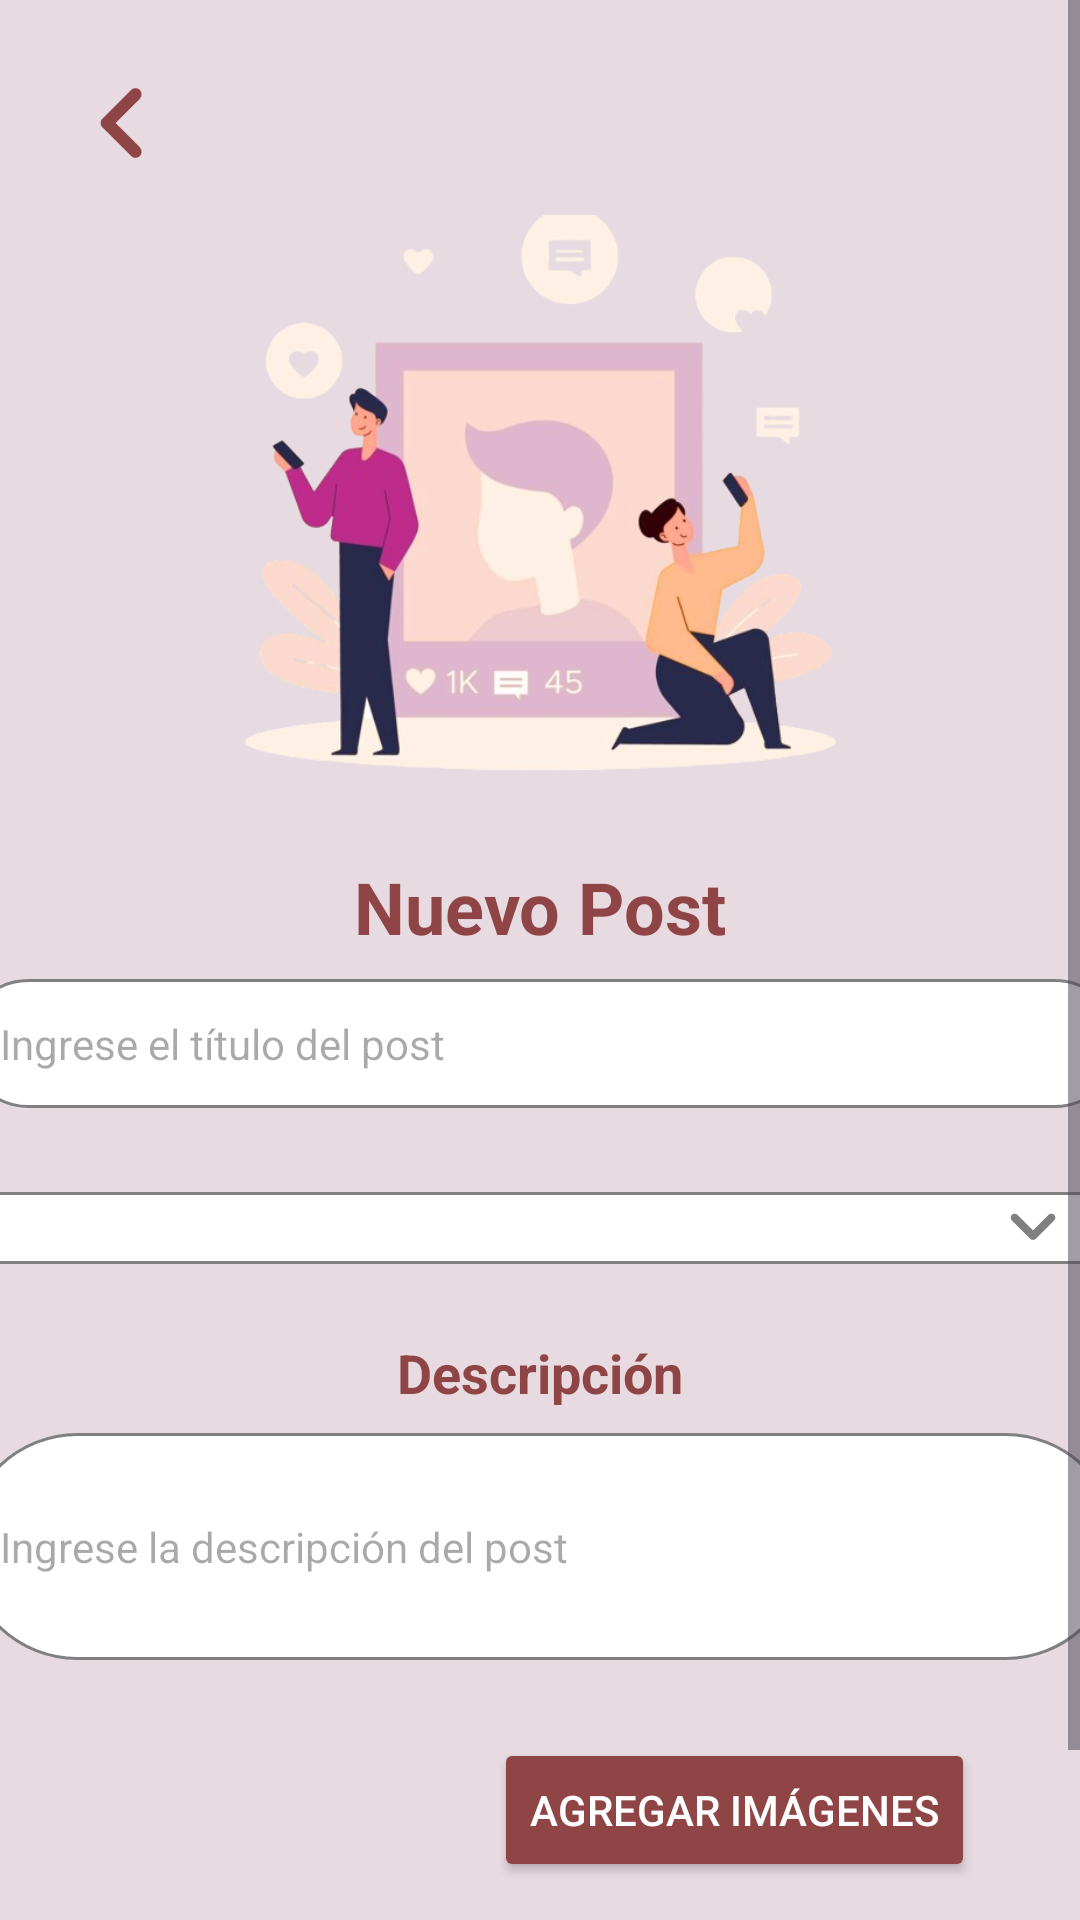

Screen size 1080×1920. Icon name, then its center in pixels as (x=x, y=y):
Volver: (x=121, y=123)
